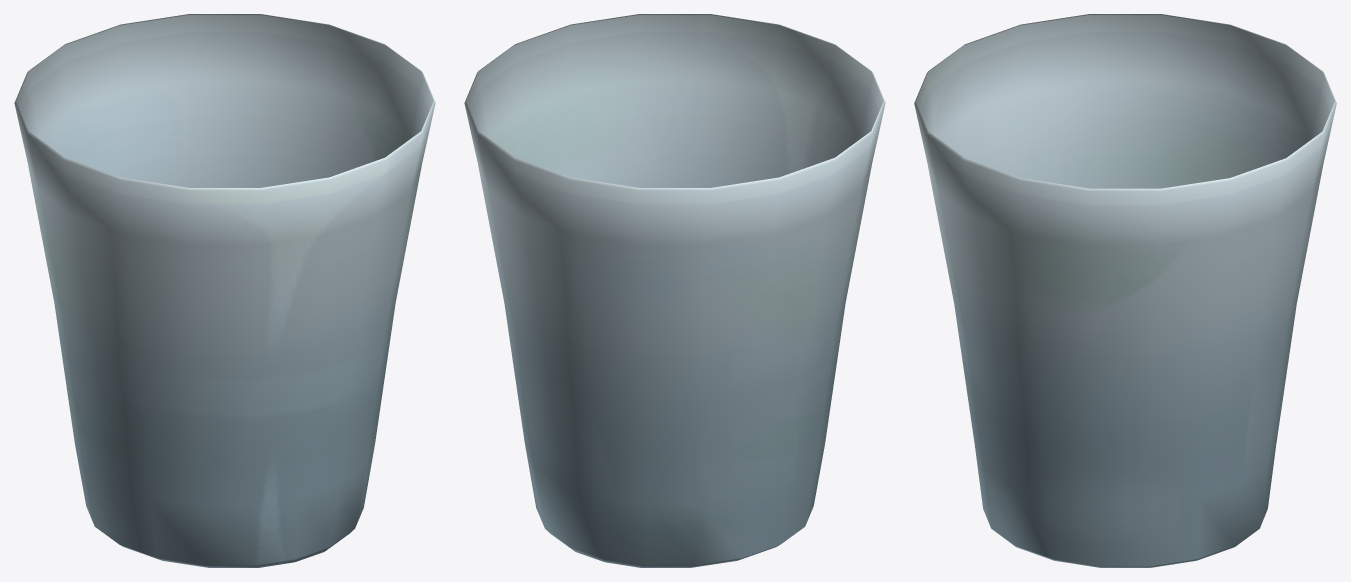
The model's file is Trash.fbx.
3 views of the same model, side by side, from view 1: azimuth 30°, elevation 25°; view 2: azimuth 150°, elevation 25°; view 3: azimuth 270°, elevation 25° (orthographic).
Visible parts, largest first — view 1: Trash; view 2: Trash; view 3: Trash.
Boxes of the visible parts, x1,y1,x2,y2 form: Trash: (14,14,435,567); Trash: (464,14,885,567); Trash: (914,14,1336,567).
Bounding box in the file's own units: 31.77 × 34.65 × 32.26.
